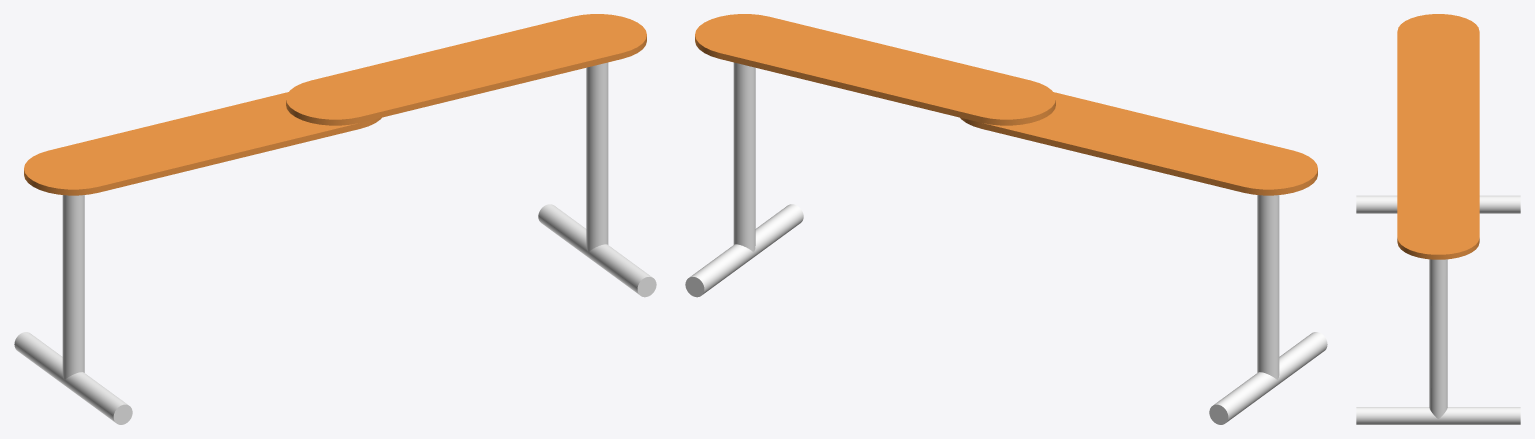
Rendered from path_obj.obj.
The picture shows the model from 3 angles, left to right: view 1: azimuth 30°, elevation 25°; view 2: azimuth 150°, elevation 25°; view 3: azimuth 270°, elevation 25°; orthographic projection. The views are drawn at different scales.
Parts seen in each view (by area): view 1: Root|Path_(Predeterminado)|Predeterminado|Saliente-Extruir4|Sali, Root|Path_(Predeterminado)|Predeterminado|Saliente-Extruir5[2]|S, Root|Path_(Predeterminado)|Predeterminado|Saliente-Extruir5[1]|S; view 2: Root|Path_(Predeterminado)|Predeterminado|Saliente-Extruir4|Sali, Root|Path_(Predeterminado)|Predeterminado|Saliente-Extruir5[2]|S, Root|Path_(Predeterminado)|Predeterminado|Saliente-Extruir5[1]|S; view 3: Root|Path_(Predeterminado)|Predeterminado|Saliente-Extruir4|Sali, Root|Path_(Predeterminado)|Predeterminado|Saliente-Extruir5[2]|S, Root|Path_(Predeterminado)|Predeterminado|Saliente-Extruir5[1]|S.
Part boxes in pixels (<box>): Root|Path_(Predeterminado)|Predeterminado|Saliente-Extruir4|Sali: <box>24,14,646,380</box>; Root|Path_(Predeterminado)|Predeterminado|Saliente-Extruir5[2]|S: <box>538,204,656,297</box>; Root|Path_(Predeterminado)|Predeterminado|Saliente-Extruir5[1]|S: <box>14,332,132,424</box>; Root|Path_(Predeterminado)|Predeterminado|Saliente-Extruir4|Sali: <box>695,14,1317,380</box>; Root|Path_(Predeterminado)|Predeterminado|Saliente-Extruir5[2]|S: <box>685,204,803,297</box>; Root|Path_(Predeterminado)|Predeterminado|Saliente-Extruir5[1]|S: <box>1209,332,1327,424</box>; Root|Path_(Predeterminado)|Predeterminado|Saliente-Extruir4|Sali: <box>1397,14,1479,419</box>; Root|Path_(Predeterminado)|Predeterminado|Saliente-Extruir5[2]|S: <box>1356,407,1520,424</box>; Root|Path_(Predeterminado)|Predeterminado|Saliente-Extruir5[1]|S: <box>1356,195,1520,213</box>.
Bounding box in the file's own units: 1.06 × 0.3766 × 0.3.
